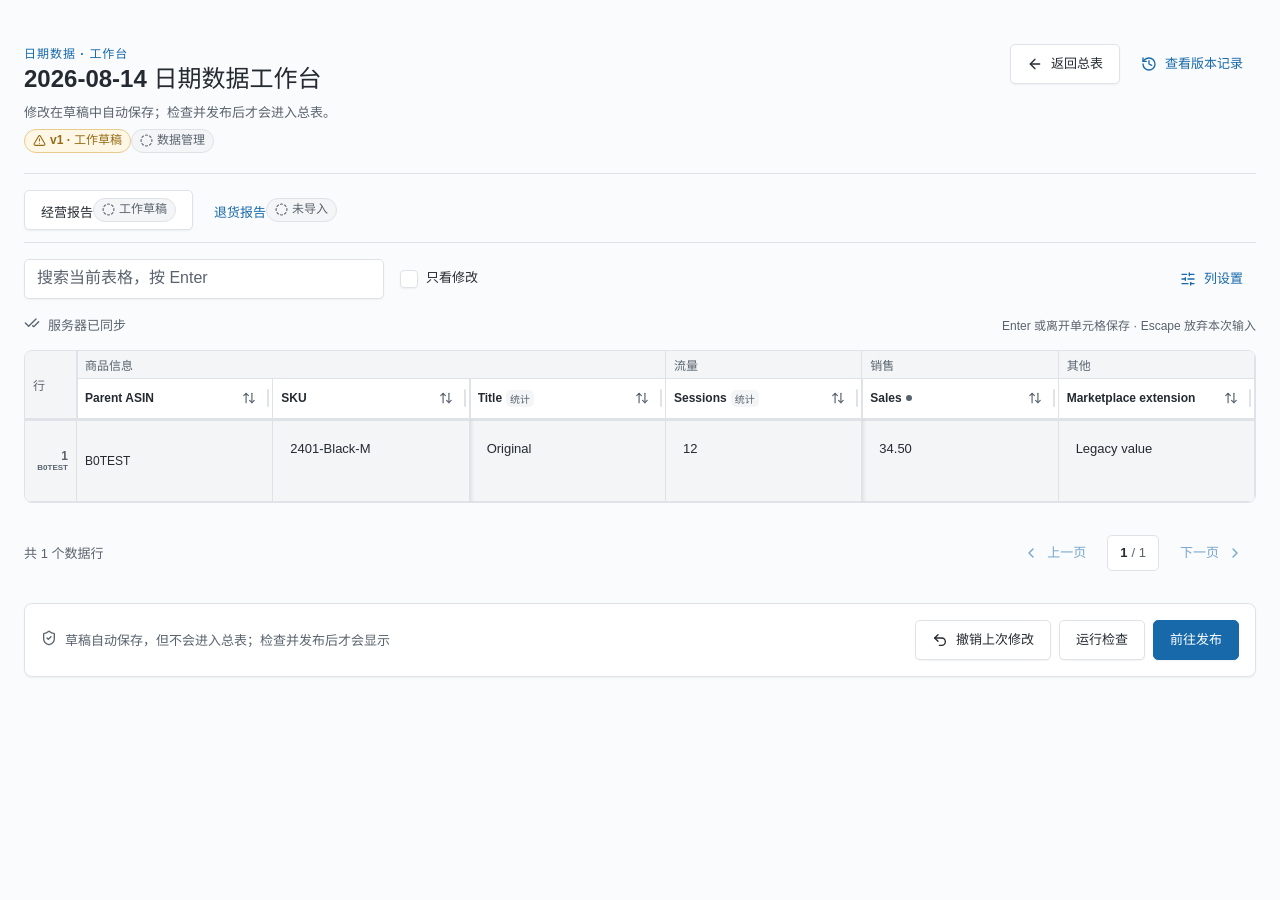
DateWorkbenchPage › autosaves an edited cell with the visible head and cell revision
Replace the text in the field named "Title，第 1 行" with "Updated" at [567, 449], box [478, 429, 657, 469]
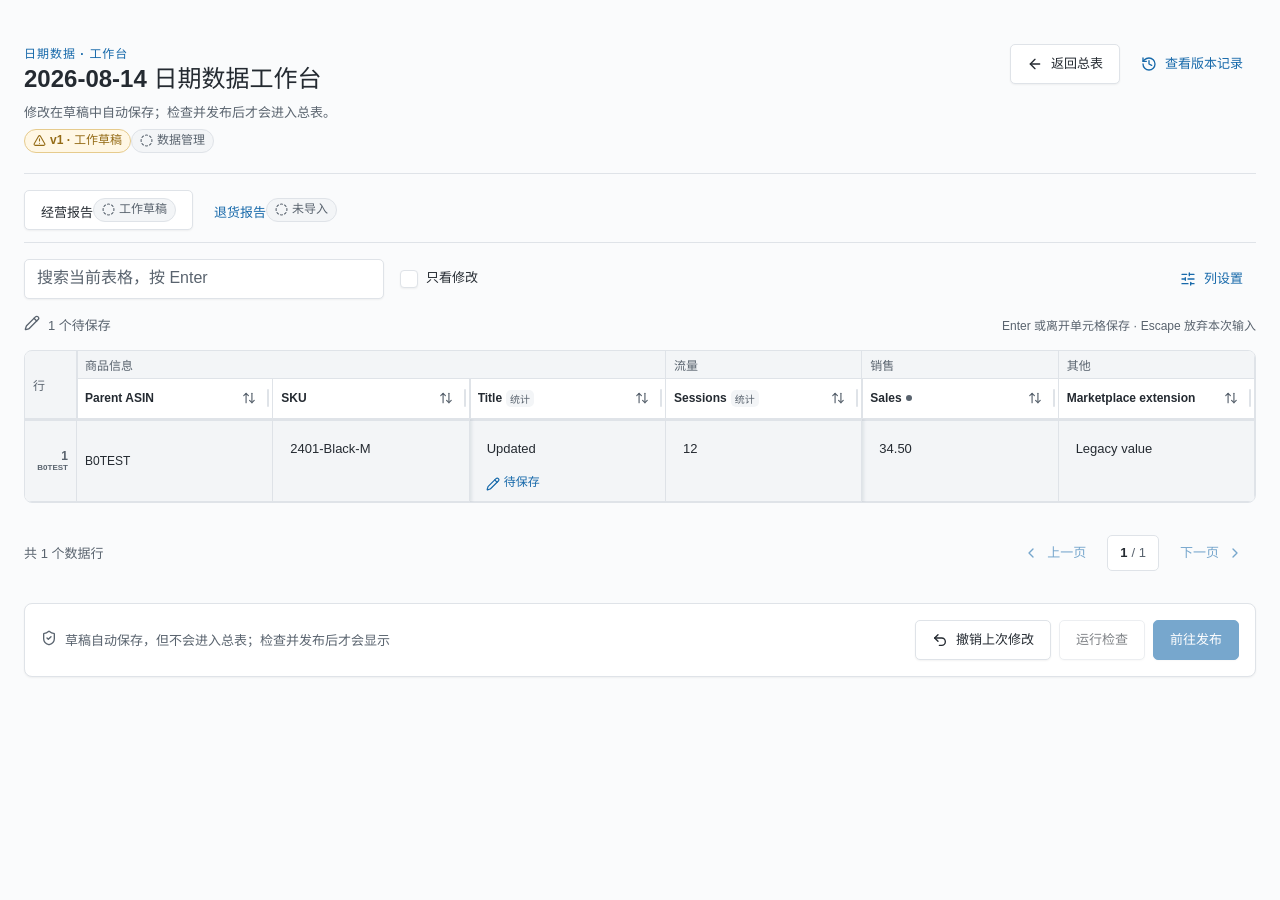
Leave the field named "Title，第 1 行", box [478, 429, 657, 469]
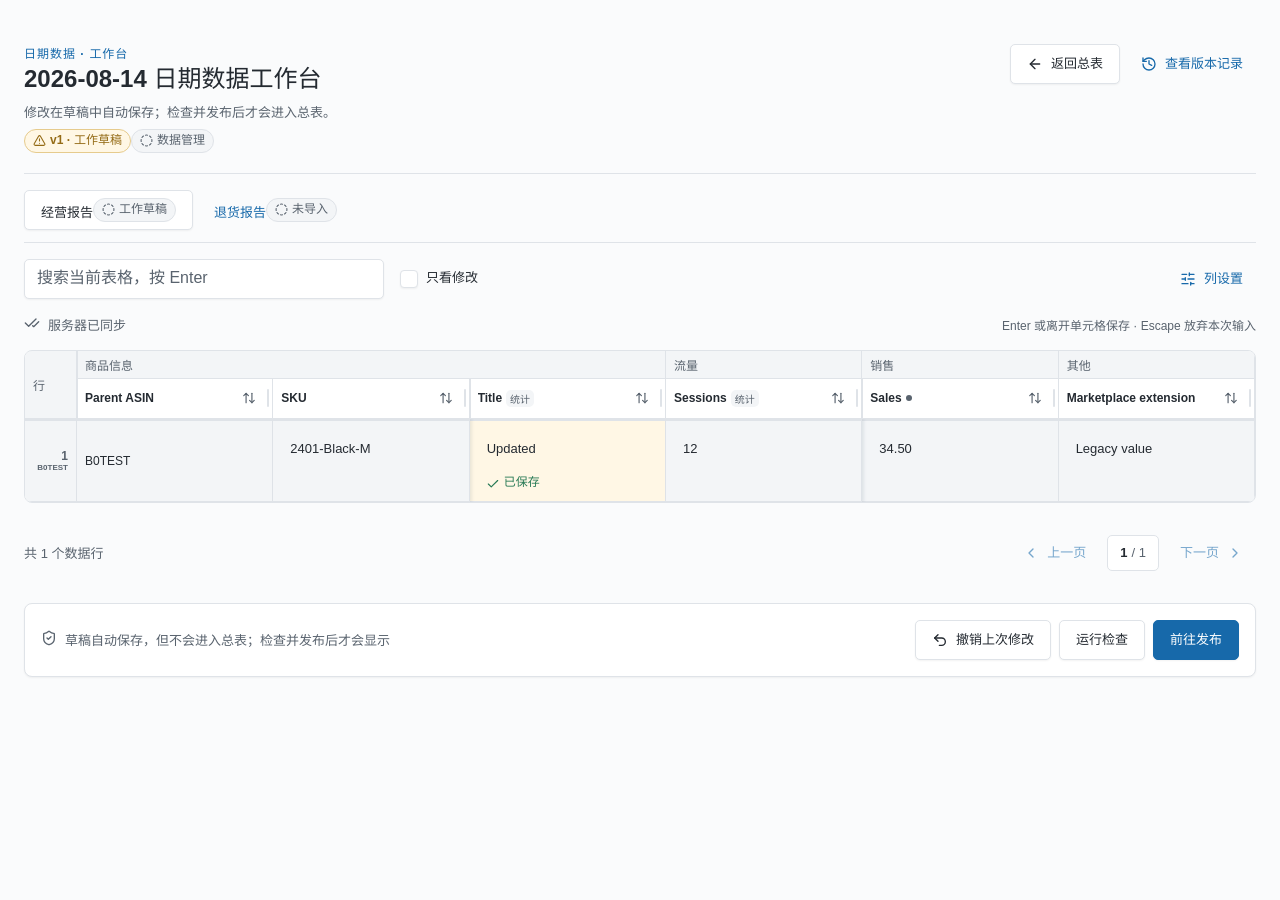
Check: the text "服务器已同步" is shown, box [48, 315, 126, 334]
